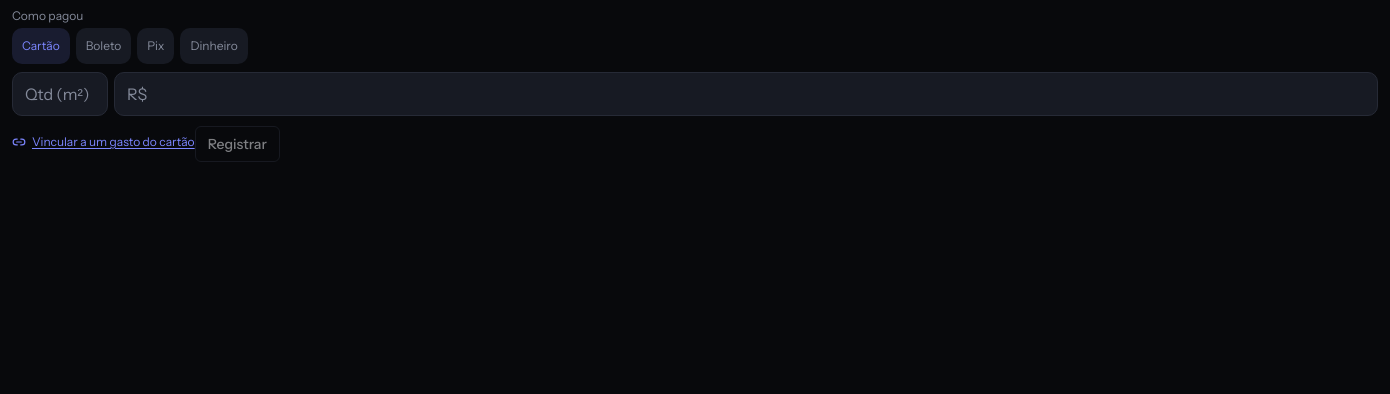
Test: NovaCompra › à vista, o valor é o da linha e não há parcela
The image size is (1390, 394).
Click the button "Vincular a um gasto do cartão" at coordinates (103, 142), box [12,124,195,160]
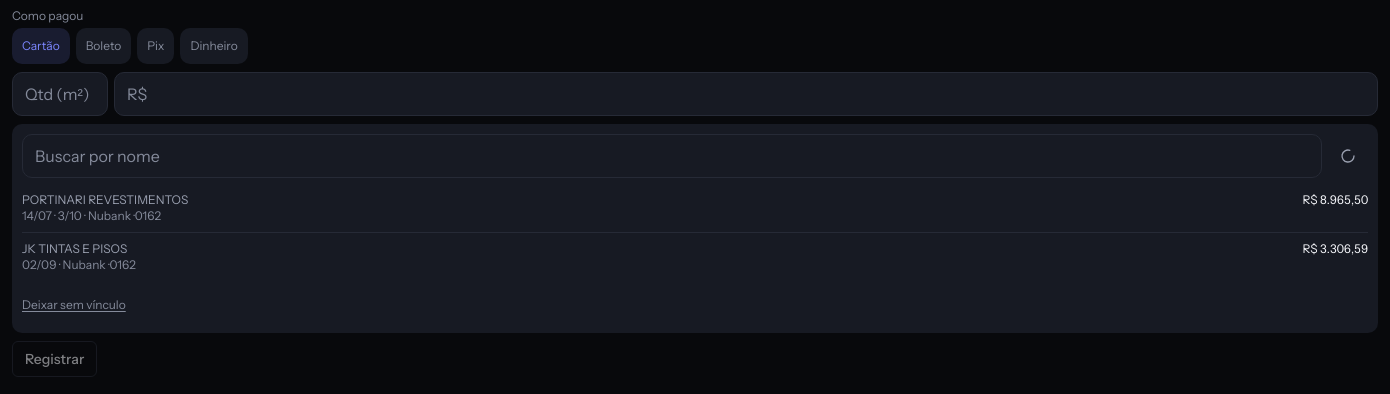
Check: the text "JK TINTAS E PISOS 02/09 · Nubank ·0162" is shown, box [22,241,136,272]
Click the button "JK TINTAS E PISOS 02/09 · Nubank ·0162 R$ 3.306,59" at coordinates (75, 248), box [22,233,1368,281]
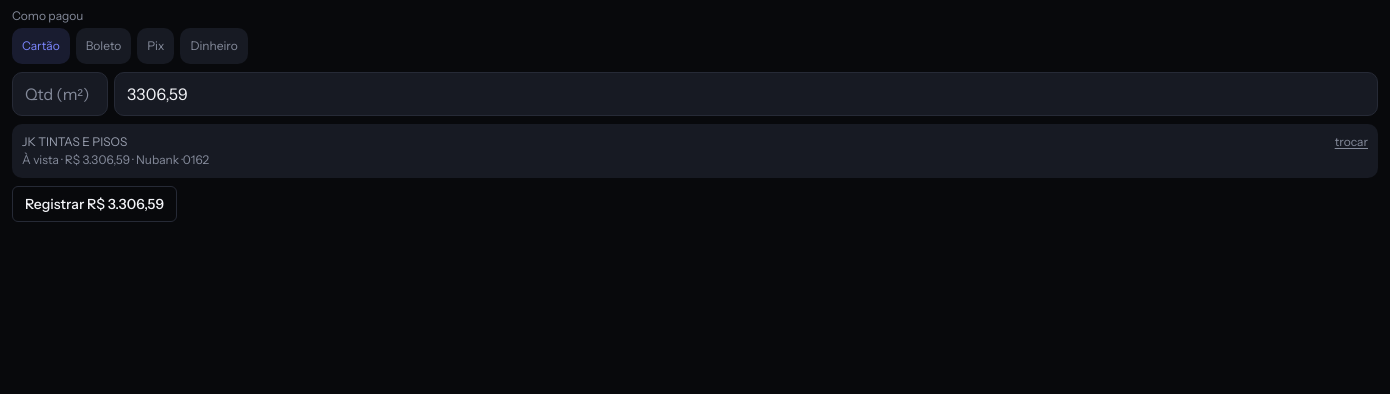
Check: the text "À vista · R$ 3.306,59 · Nubank ·0162" is shown, box [22,152,209,167]
